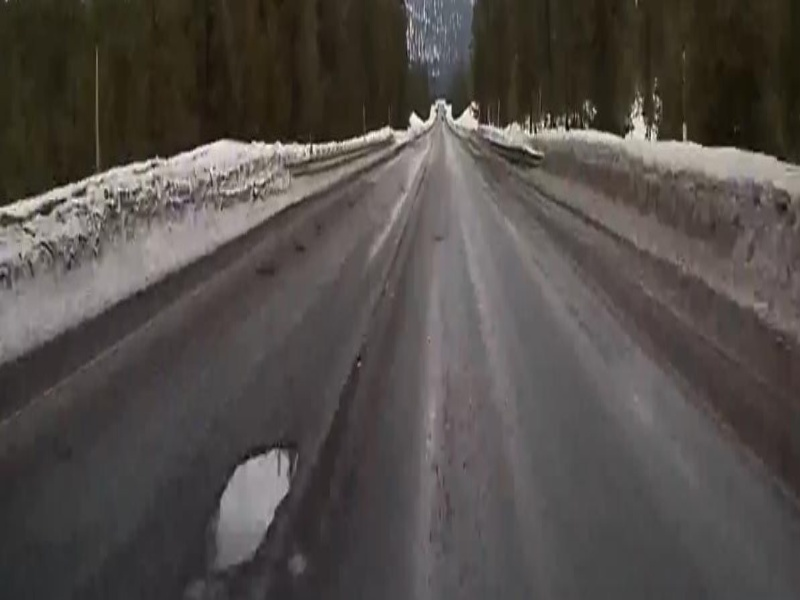pothole: (195, 436, 304, 577)
